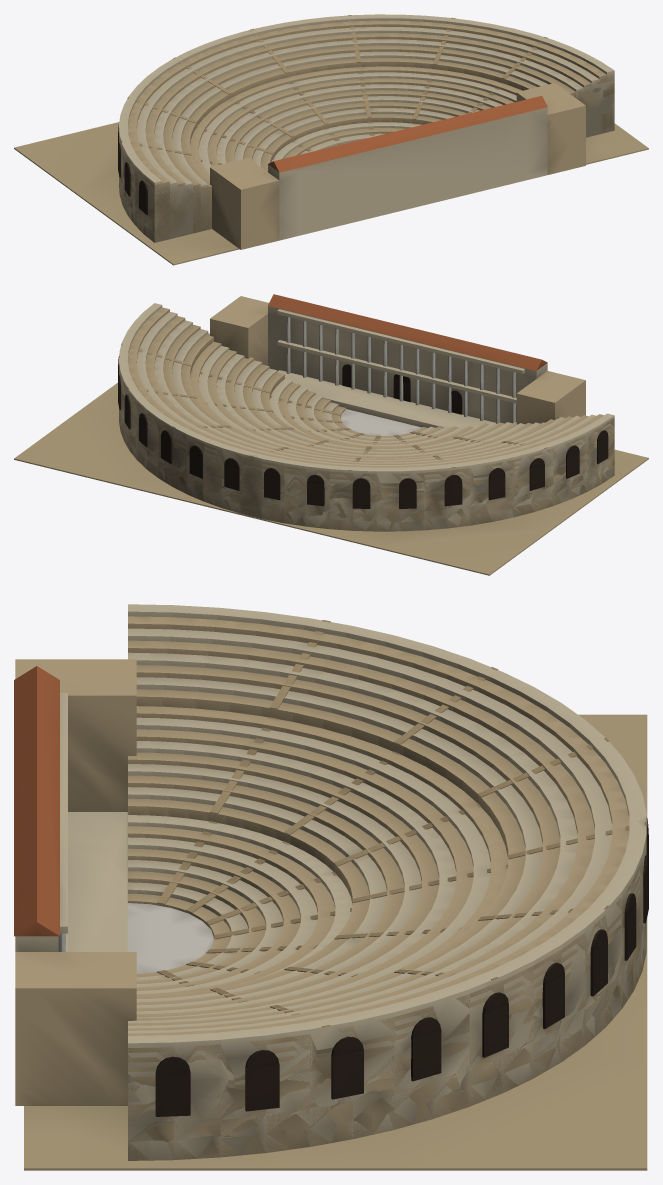
The model's file is roman-theatre.glb.
The picture shows the model from 3 angles, top to bottom: view 1: azimuth 30°, elevation 25°; view 2: azimuth 150°, elevation 25°; view 3: azimuth 270°, elevation 25°; orthographic projection. The views are drawn at different scales.
Visible parts, largest first — view 1: p0_cavea, p1_stage, p2_scaenae frons; view 2: p0_cavea, p1_stage, p2_scaenae frons; view 3: p0_cavea, p1_stage, p2_scaenae frons.
Boxes of the visible parts, x1,y1,x2,y2 form: p0_cavea: (14, 14, 648, 265); p1_stage: (118, 15, 585, 249); p2_scaenae frons: (268, 96, 547, 172); p0_cavea: (14, 303, 648, 575); p1_stage: (118, 296, 608, 508); p2_scaenae frons: (268, 294, 547, 423); p0_cavea: (24, 604, 647, 1170); p1_stage: (15, 620, 648, 1116); p2_scaenae frons: (14, 666, 67, 951).
Size of the model in its own units: 124 by 19.1 by 73.35.
